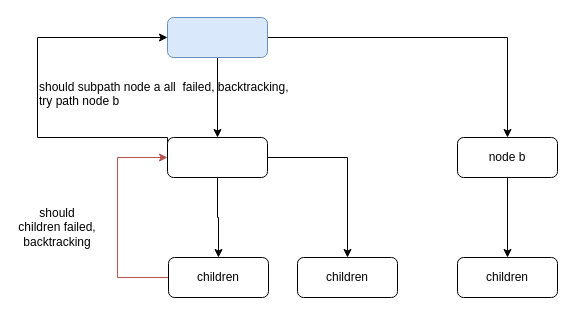
Some shapes in this 575 by 315 pixel diagram are drawn without their labels. Here are the shapes that lost their labels. From the top down, the box of each, then its label:
(166, 16, 268, 58): start point
(166, 136, 268, 178): node a
